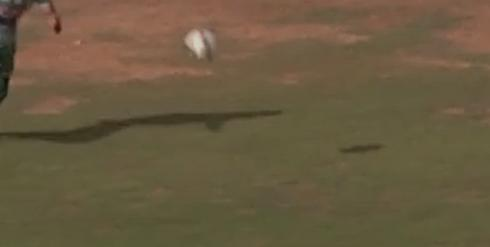ball: (179, 22, 223, 68)
